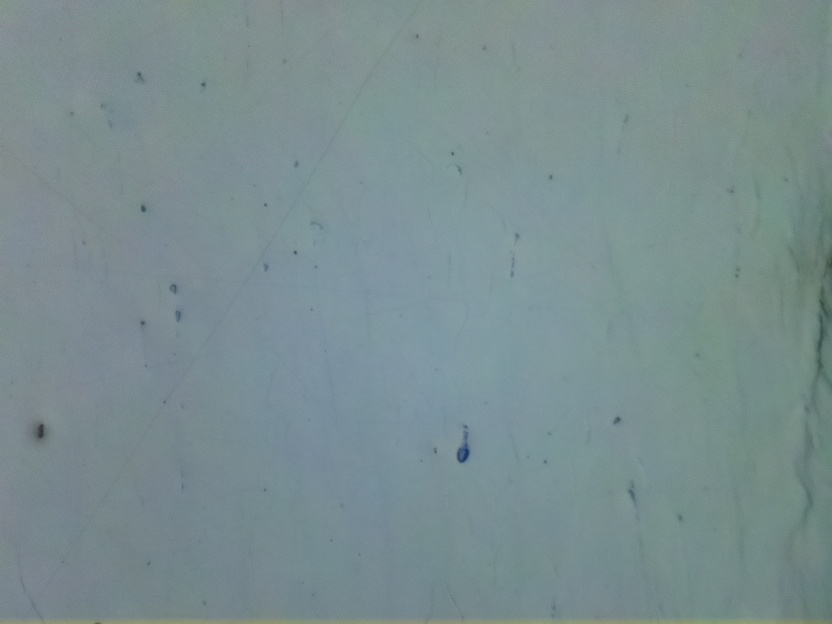crack: (811, 245, 832, 382)
